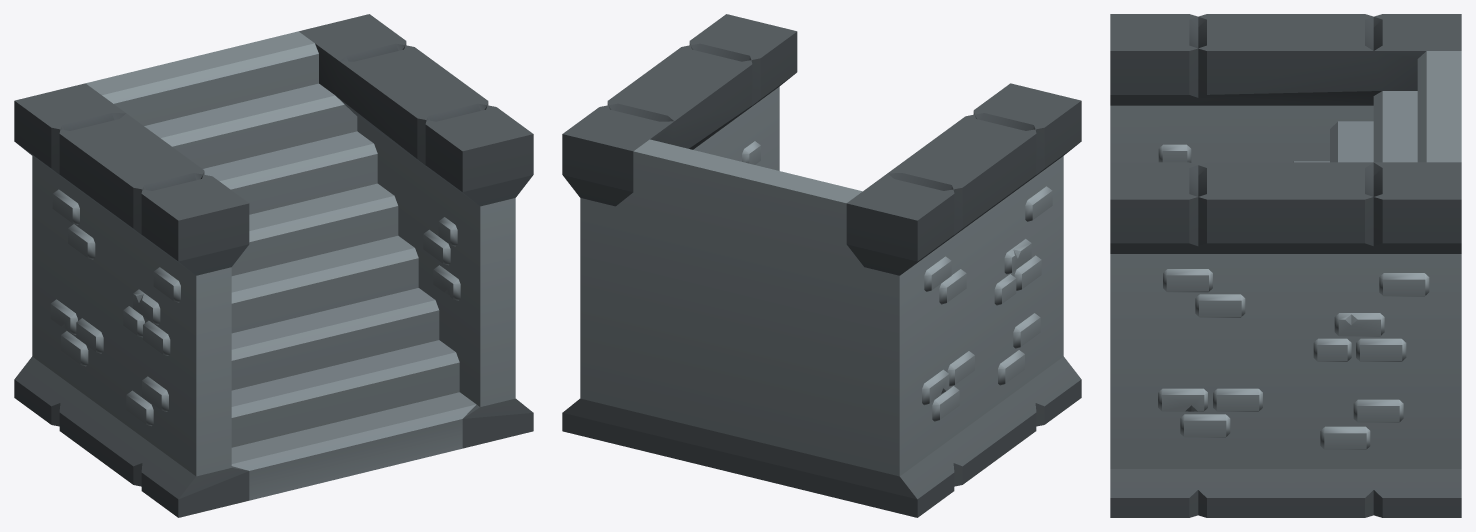
File: dg_stairs_walled.glb
3 renders of one model, left to right at view 1: azimuth 30°, elevation 25°; view 2: azimuth 150°, elevation 25°; view 3: azimuth 270°, elevation 25°, orthographic. The views are drawn at different scales.
Visible parts, largest first — view 1: stairs_walled; view 2: stairs_walled; view 3: stairs_walled.
Boxes of the visible parts, x1,y1,x2,y2 form: stairs_walled: (14,14,533,517); stairs_walled: (562,14,1081,517); stairs_walled: (1110,14,1461,517).
Bounding box in the file's own units: 5 × 4 × 4.
1 material, 1 textured.
